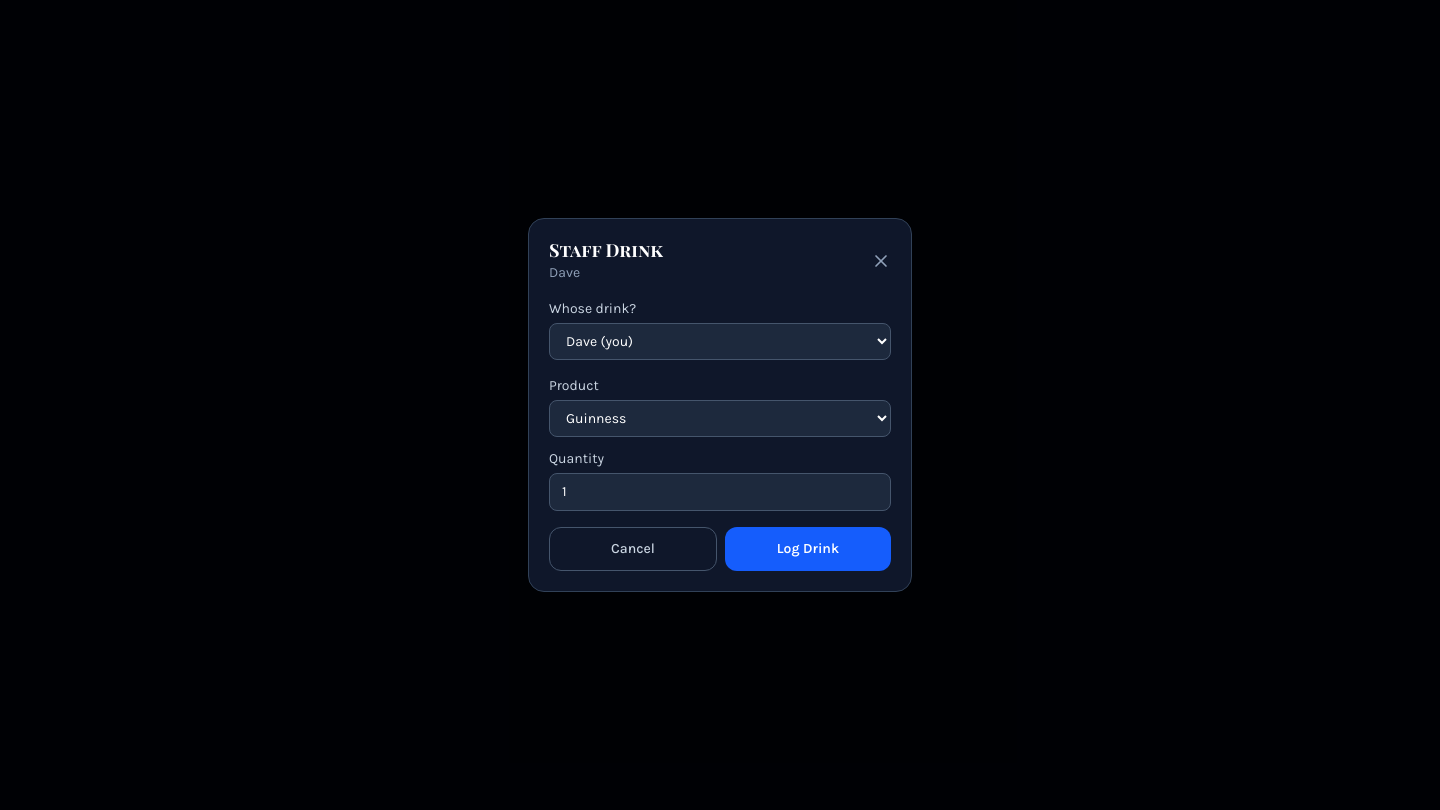
Scenario: StaffDrinkModal › shows error when logStaffDrink throws
Click the button "Log Drink" at x=808, y=549, box [725, 527, 891, 571]
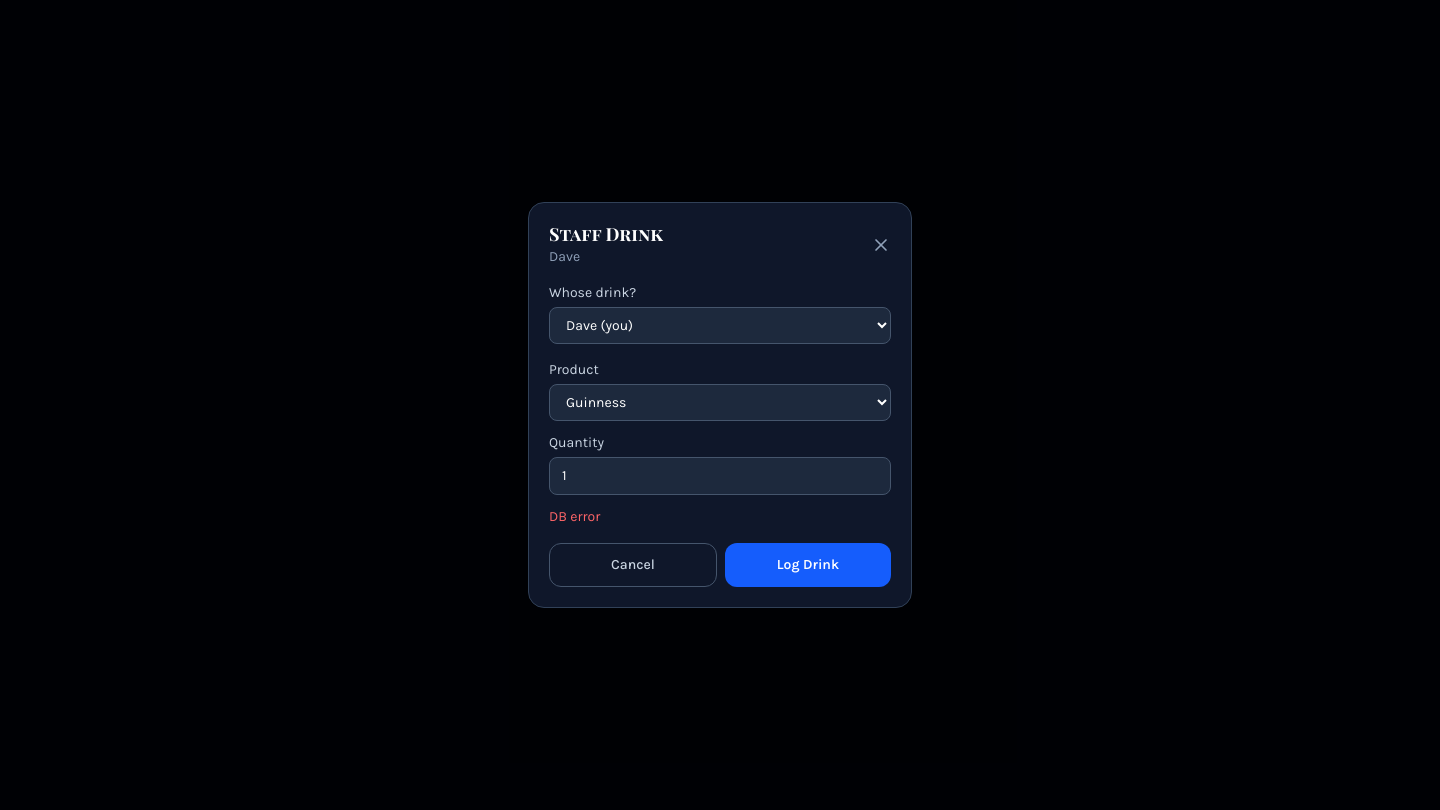
Now the text "DB error" is shown, box [549, 508, 600, 525]
